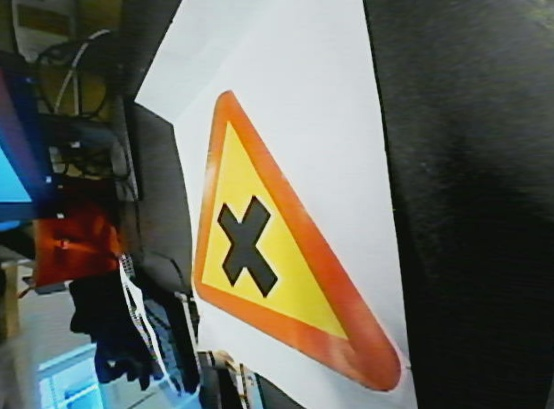junction: (181, 85, 405, 395)
